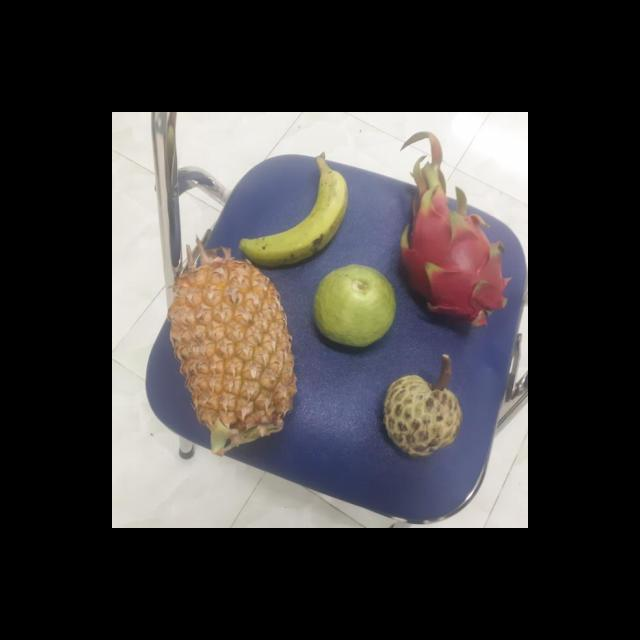Sakya fruit: (378, 370, 462, 458)
banana: (240, 164, 347, 266)
guava: (308, 264, 396, 347)
pineapple: (162, 255, 294, 446)
pitaya: (392, 198, 503, 328)
